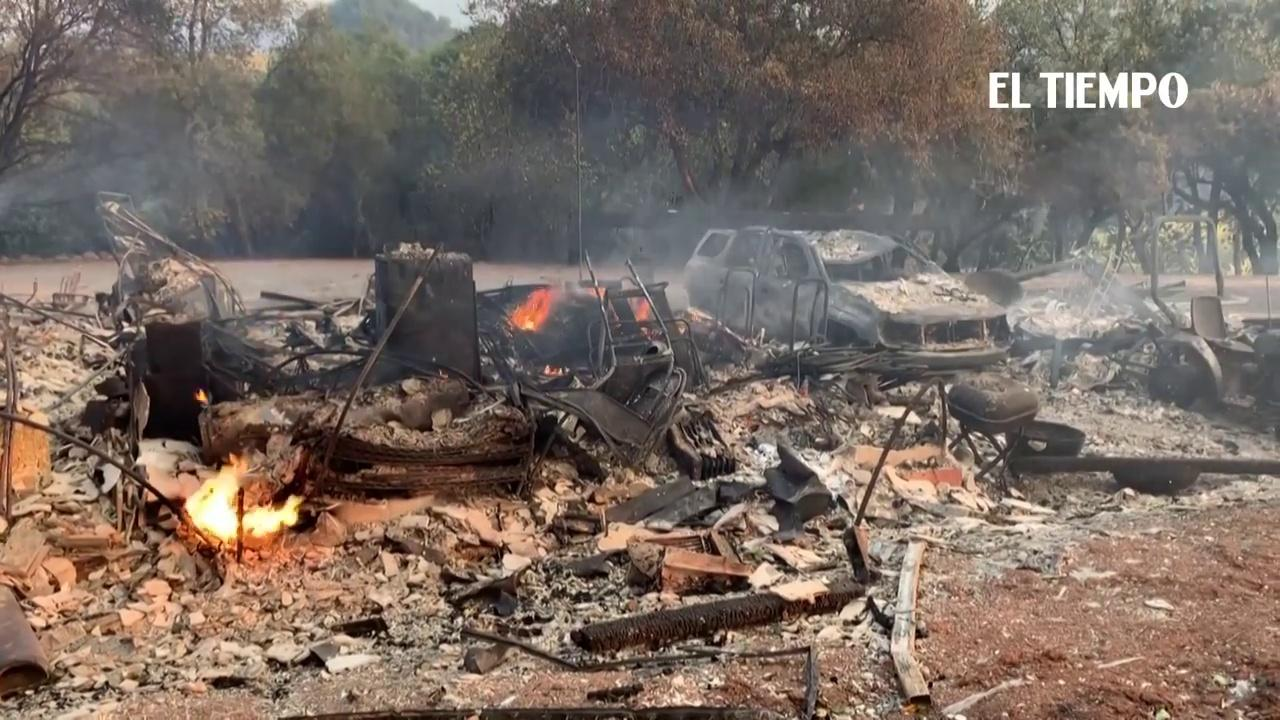Fire: (191, 463, 307, 544), (507, 284, 556, 331)
